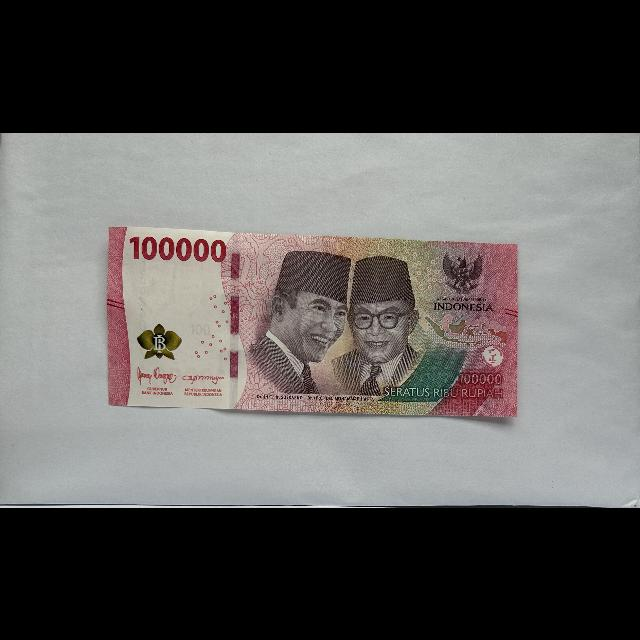Asli-100k: (107, 224, 520, 418)
Tinta-Asli-100k: (137, 322, 183, 361)
